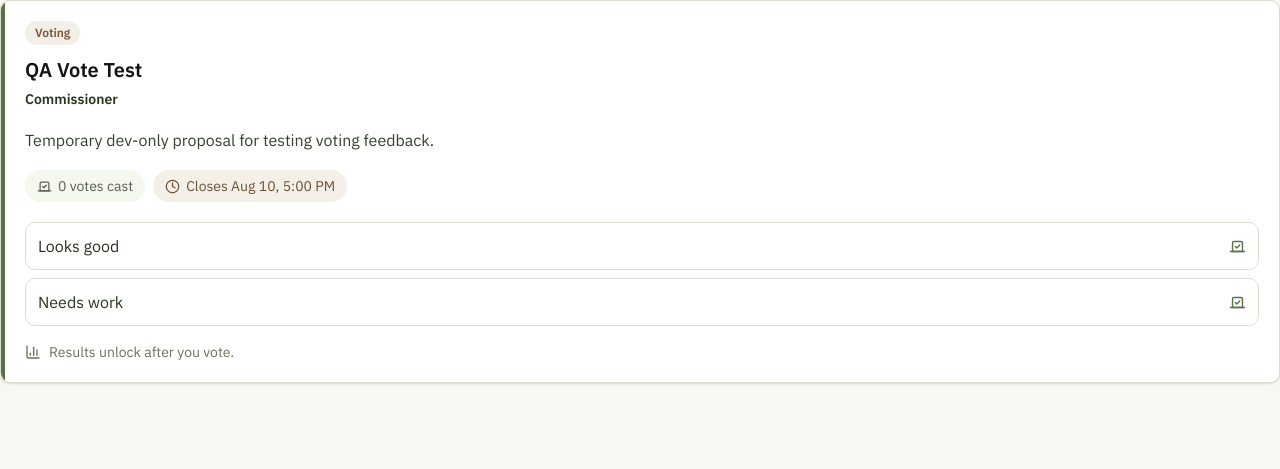
Test: ProposalFeedCard voting feedback › shows confirmed results immediately after the vote API succeeds
Click the button "Looks good".
click(79, 246)  # box [25,222,1259,270]
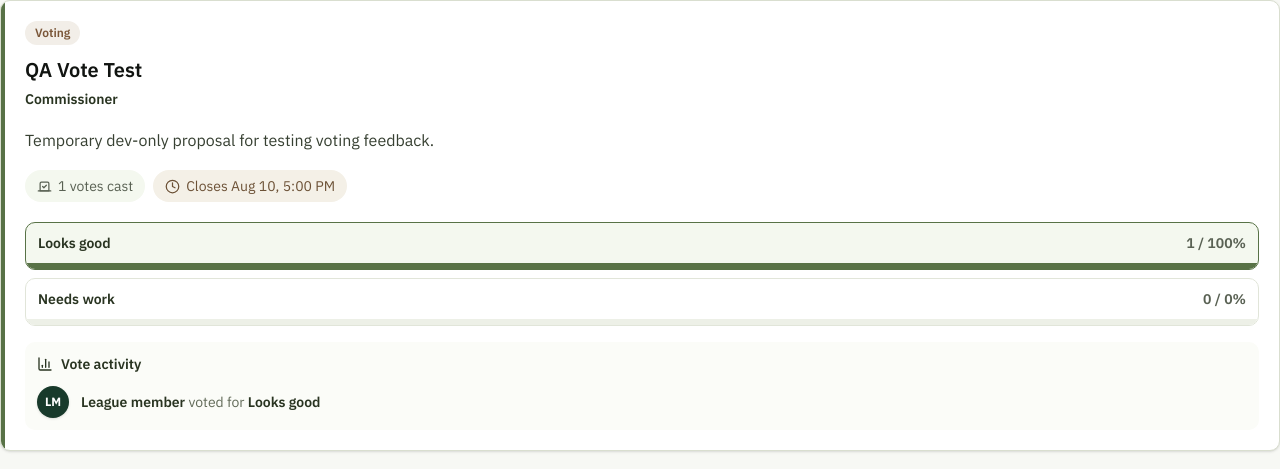
Expected: the text "1 / 100%" is shown, [1186,233,1246,253]
Expected: the text "0 / 0%" is shown, [1203,289,1246,309]
